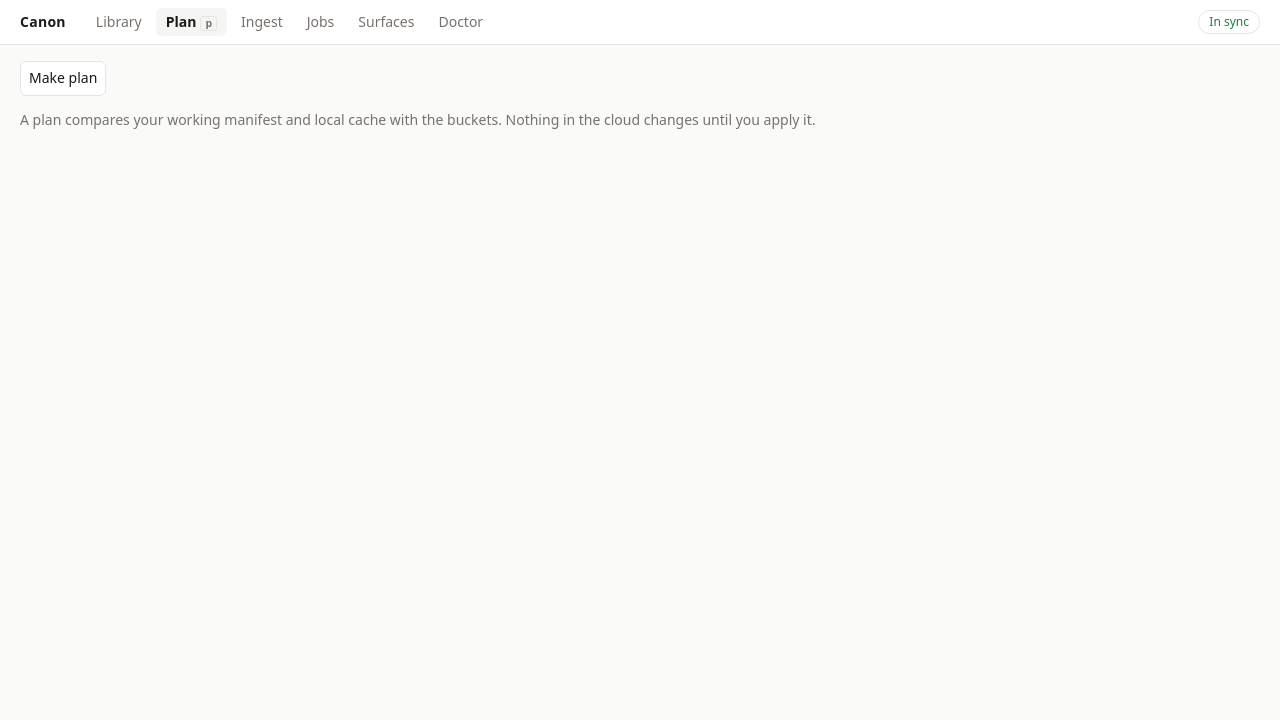
Scenario: Plan diffs › expands a view's diff against the bucket
The width and height of the screenshot is (1280, 720).
Click the button "Make plan" at (63, 78), box [20, 61, 106, 96]
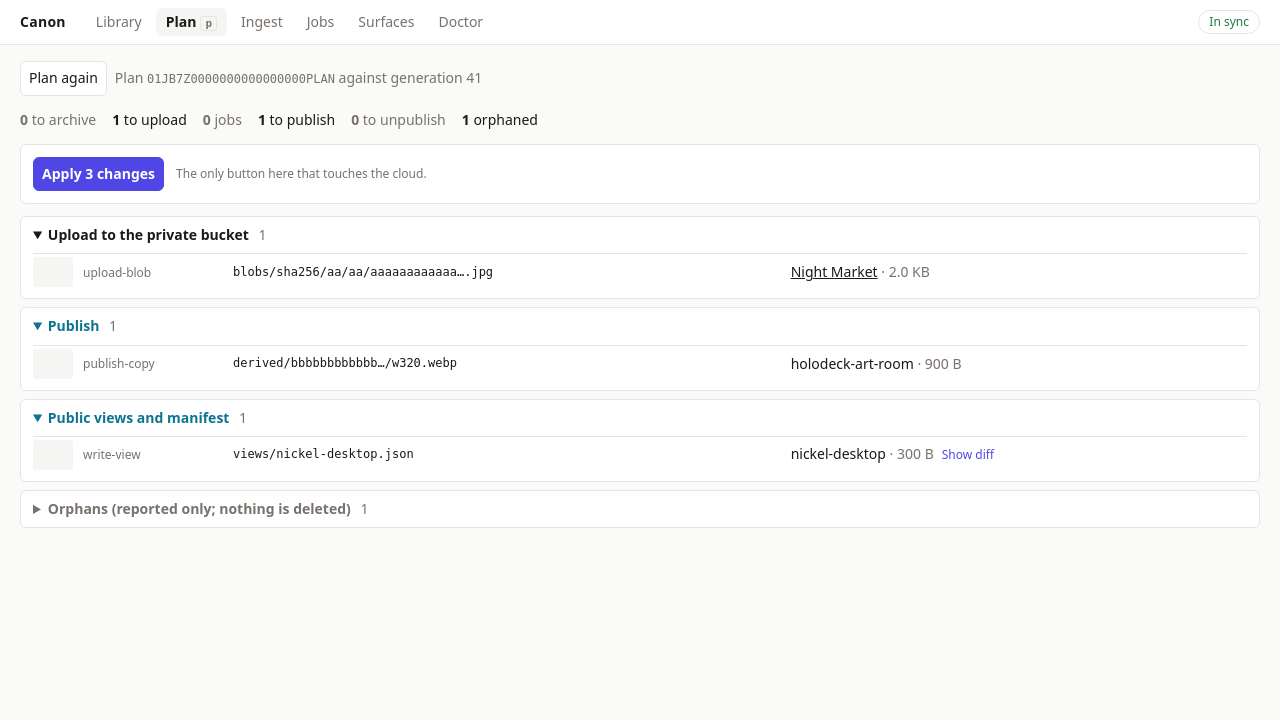
Click the button "Show diff" at (968, 455), box [942, 444, 994, 466]
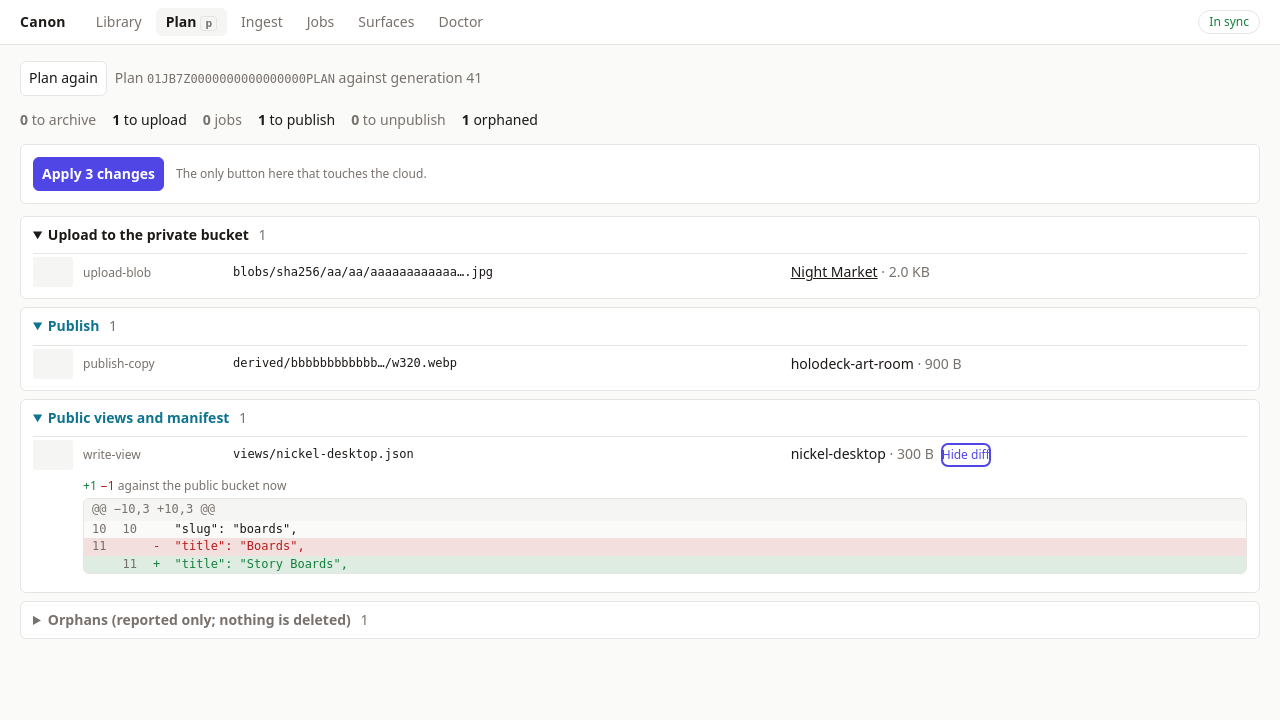
Check: the text "+ \"title\": \"Story Boards\"," is shown, box [145, 556, 1246, 573]
Check: the text "+1" is shown, box [83, 477, 97, 494]
Check: the text "@@ −10,3 +10,3 @@" is shown, box [84, 500, 1246, 521]
Click the button "Hide diff" at (966, 455), box [942, 444, 990, 466]
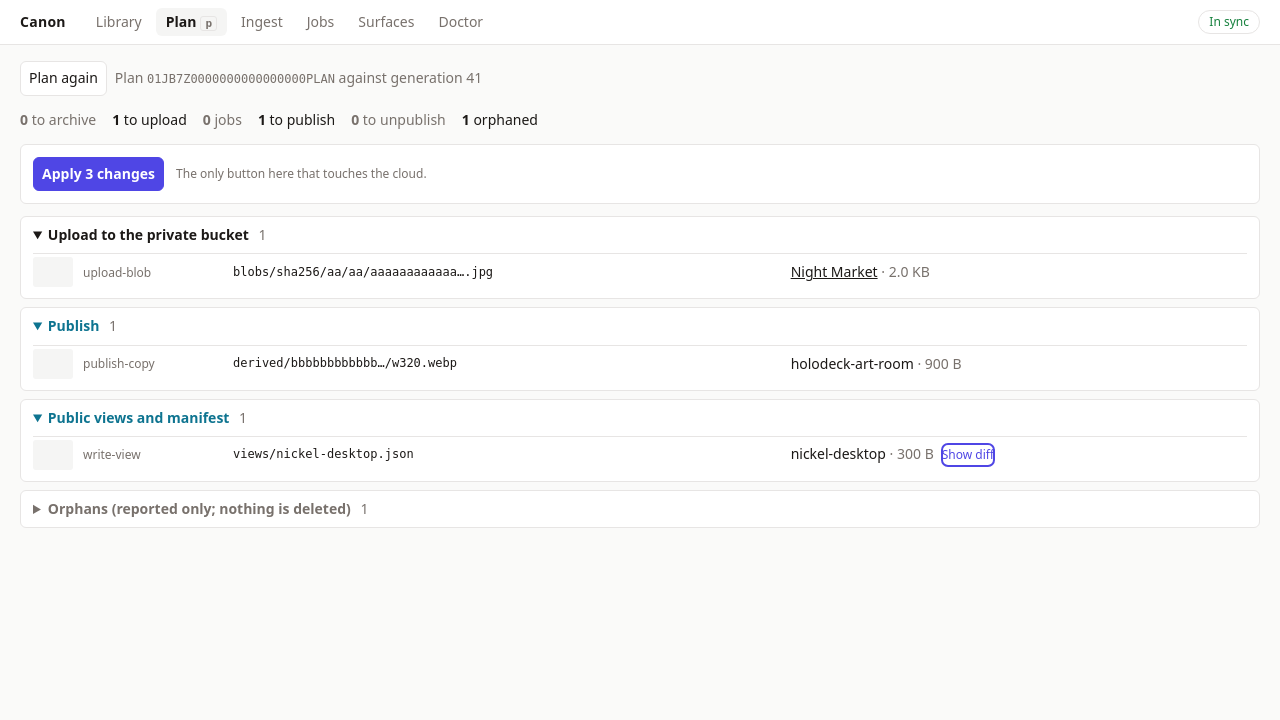
Check: the text "\"title\": \"Story Boards\"" is gone
